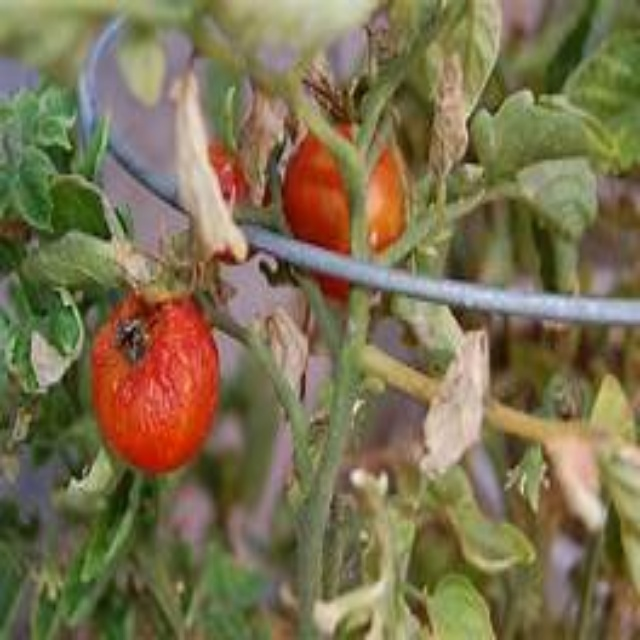tomato: (79, 291, 246, 467), (293, 124, 409, 291)
